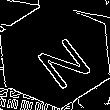N_NW: (21, 23, 89, 87)
